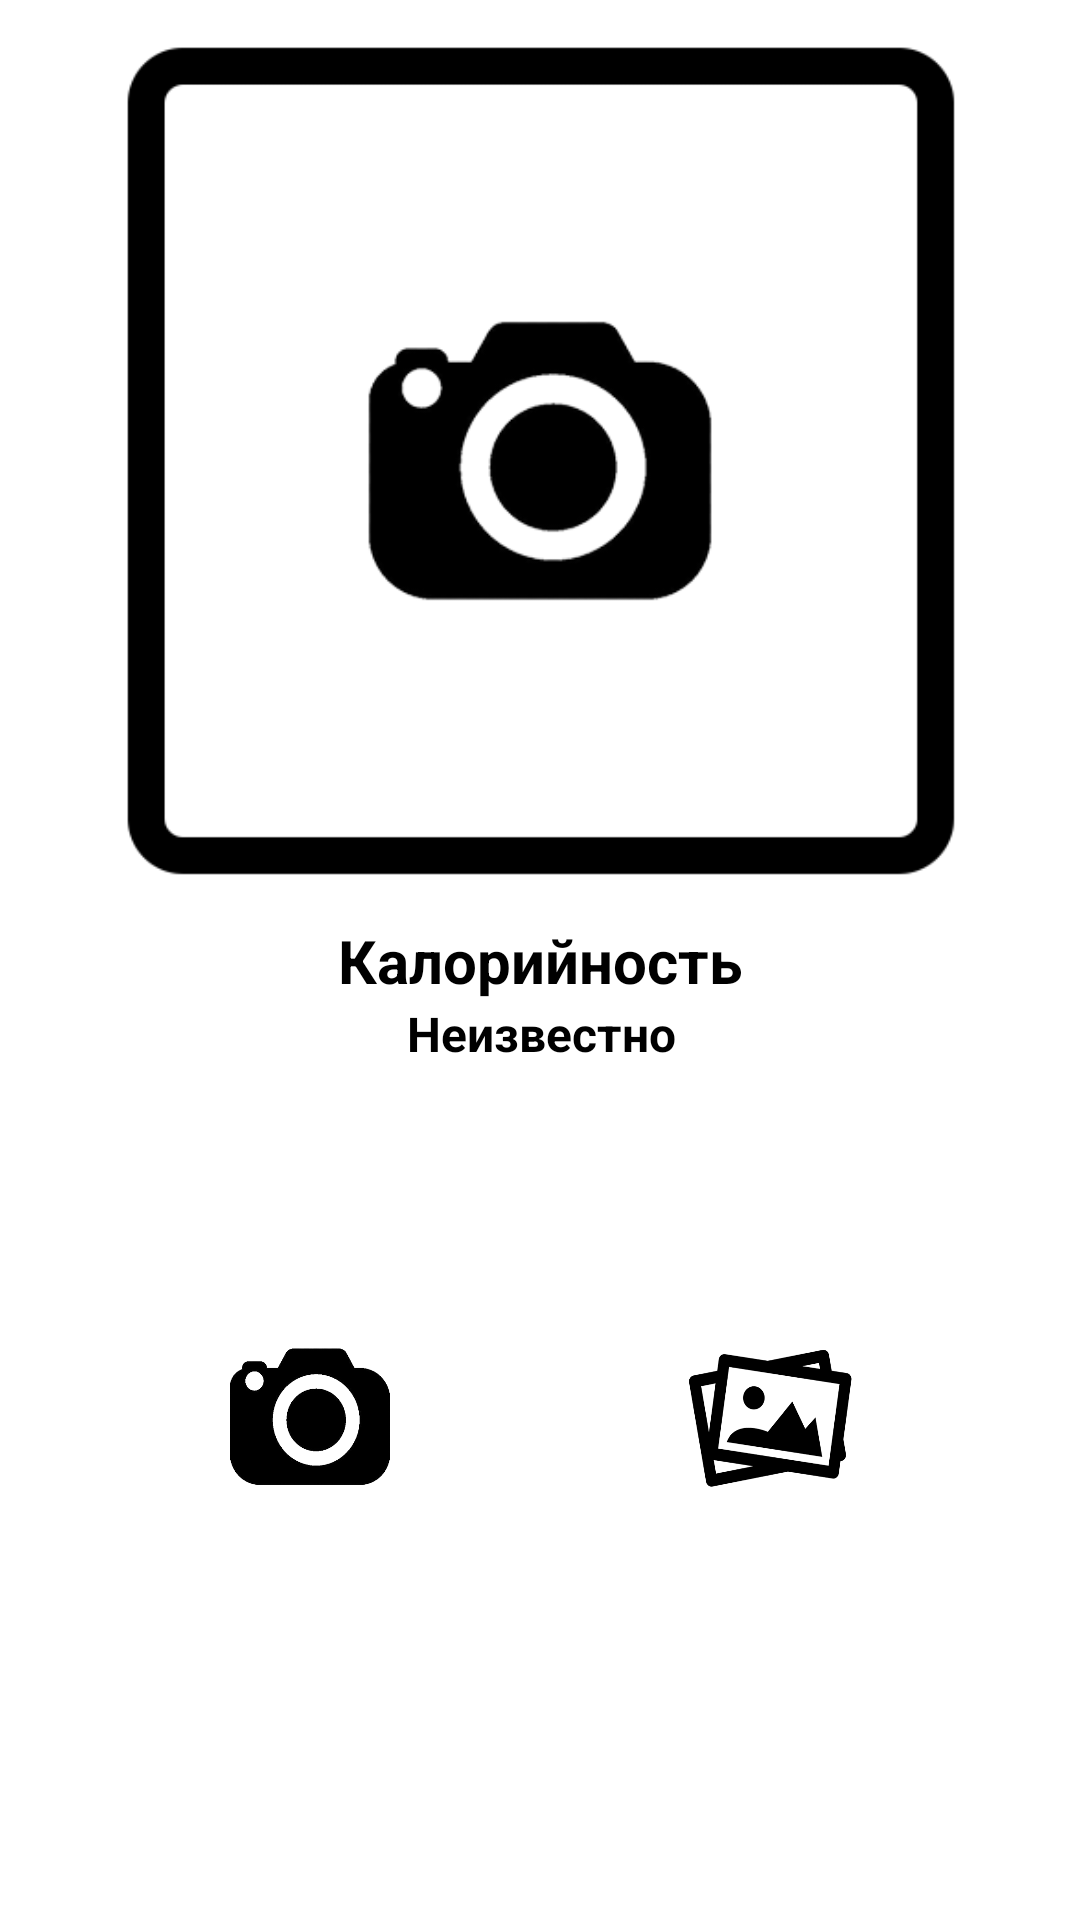

Where icons sit on this 1080px×1920px app screen, as (x1, y1, x2, y2):
cam: (230, 1348, 390, 1485)
galery: (689, 1350, 852, 1487)
